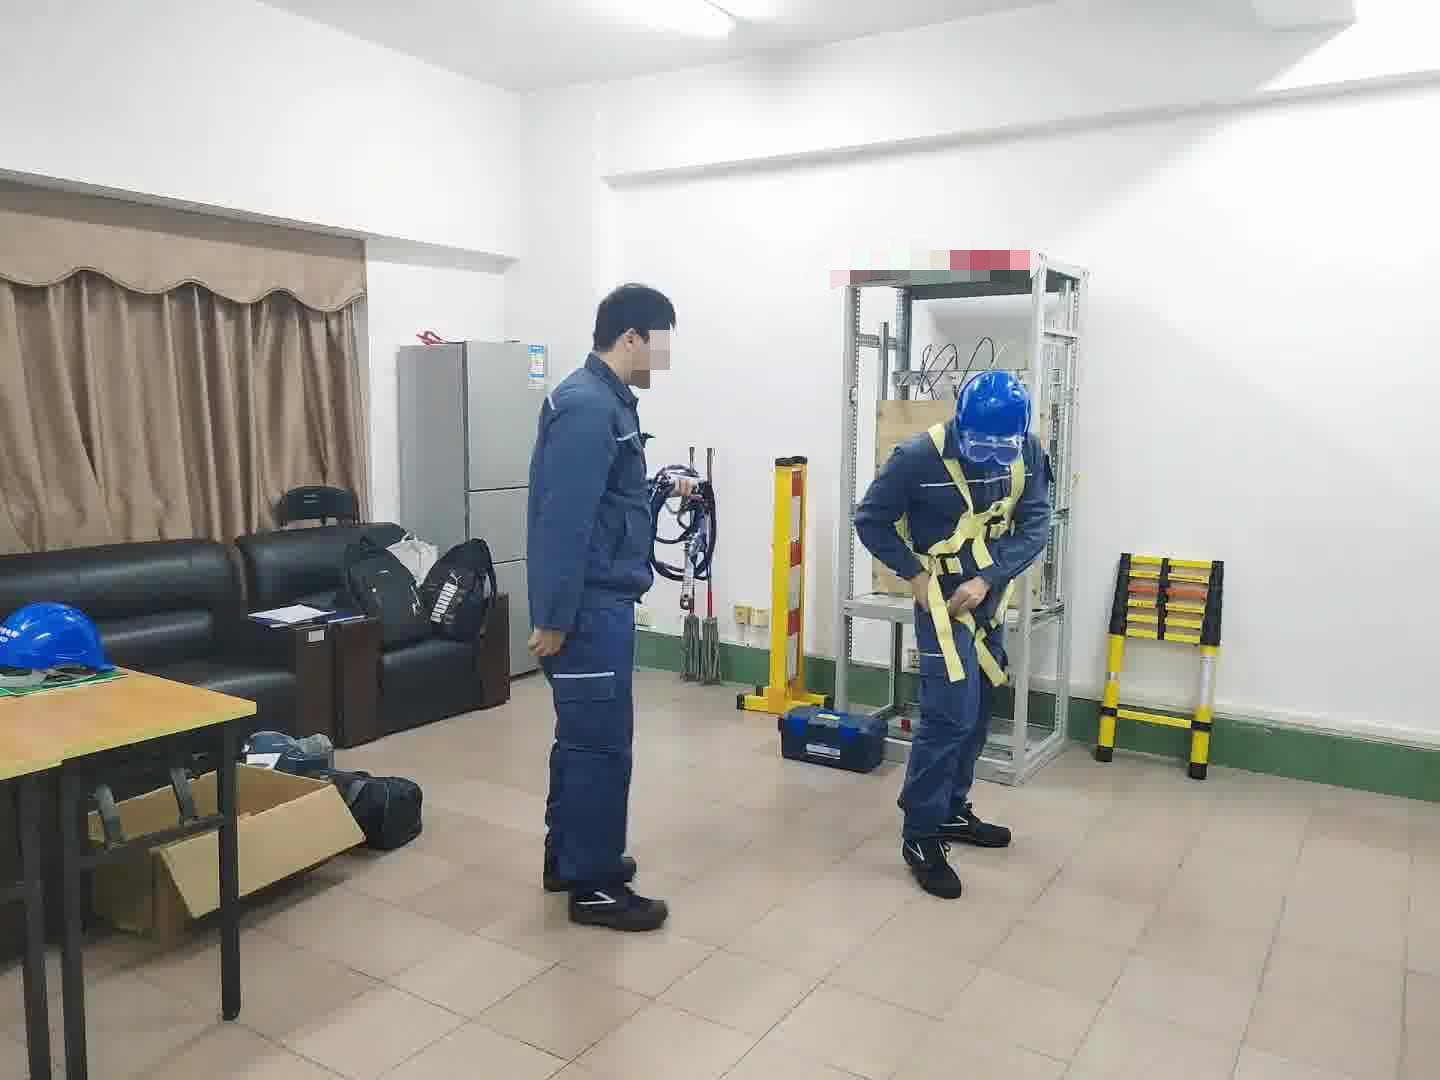halt: (958, 373, 1035, 458)
noear: (611, 320, 654, 373)
unhalt: (592, 285, 681, 385)
